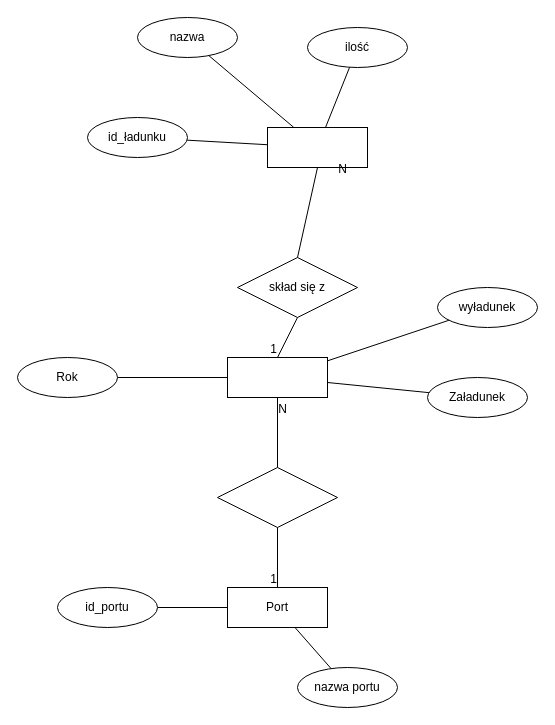
The diagram is 555 pixels wide and 725 high, and some of its shapes have lost their labels. Each missing label, with the centre of its shape:
"ma" goes at point (277, 497).
"Przeładunek" goes at point (277, 377).
"rodzaj ładunku" goes at point (317, 147).
